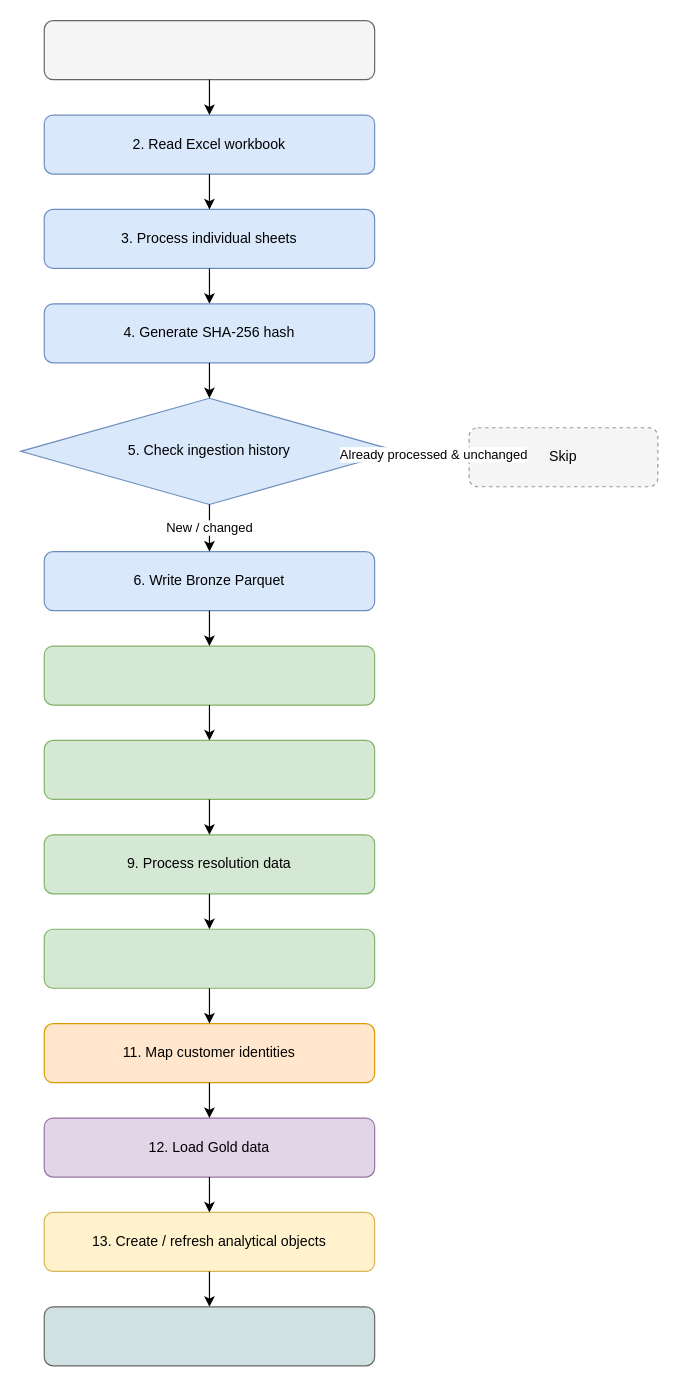
Image size: 679x1386. Some labels were removed from this diagram. The shapes that lost their labels are listed below. From the top down, each one's centre as x and y in pixels, then its label:
point 209,49: 1. Generate / receive source data
point 209,675: 7. Clean and standardize
point 209,769: 8. Run data quality checks
point 209,958: 10. Write Silver Parquet
point 209,1336: 14. Consume through Metabase
